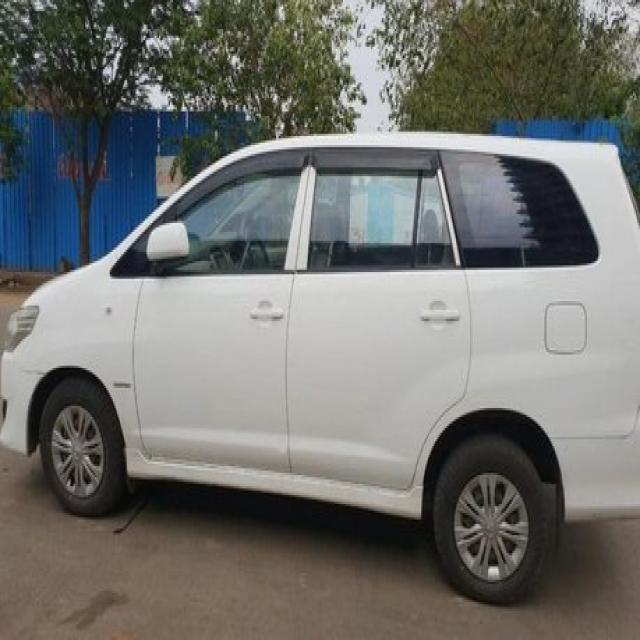light_vehicle: (1, 130, 639, 604)
